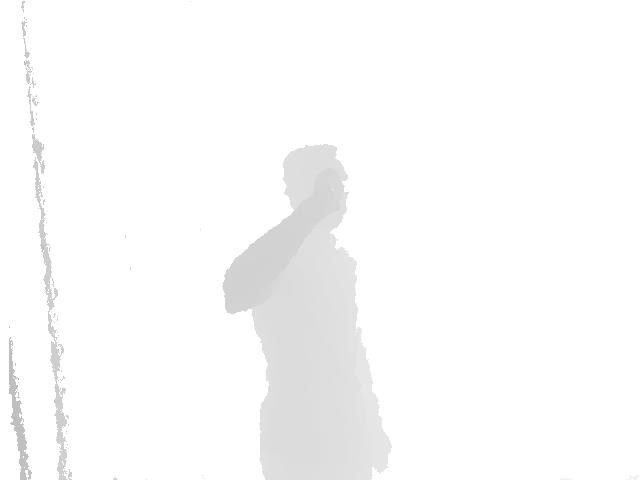head: (282, 143, 347, 233)
person: (221, 143, 394, 480)
